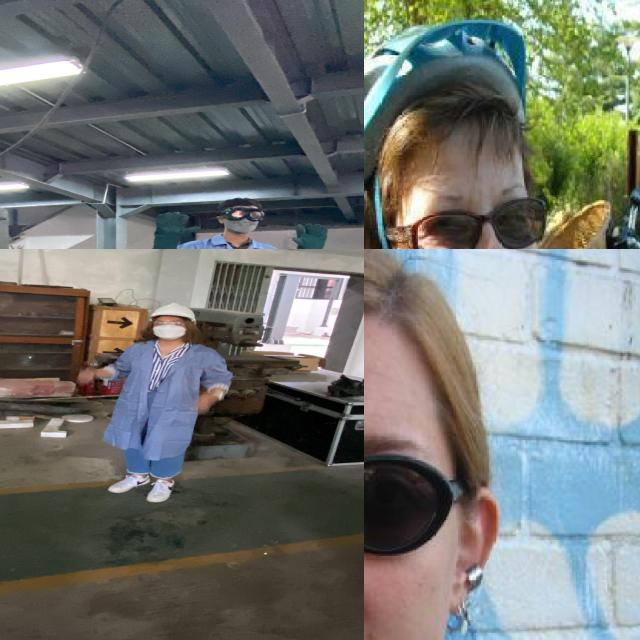face_mask: (151, 318, 188, 340)
face_nomask: (364, 449, 438, 640), (403, 208, 540, 249)
glasses: (364, 446, 465, 554), (385, 194, 548, 249), (213, 204, 269, 222), (152, 319, 186, 327)
hand_glove: (145, 206, 205, 245), (284, 218, 340, 249)
hand_noglove: (72, 365, 102, 386), (190, 393, 219, 414)
head_helmet: (149, 301, 199, 323)
head_nohelmet: (364, 4, 529, 173), (364, 251, 471, 403), (216, 193, 266, 214)
person: (364, 257, 640, 640), (364, 23, 634, 249), (73, 299, 232, 505), (125, 192, 340, 249)
shoes: (108, 470, 152, 494), (144, 474, 180, 502)
